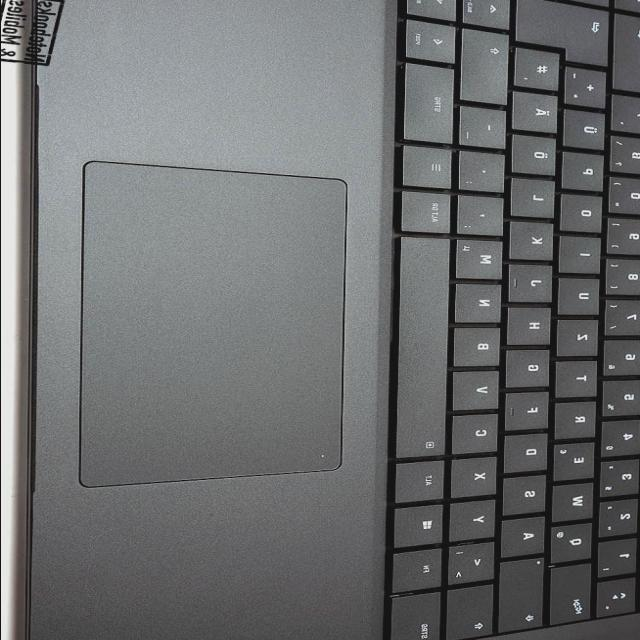0: (610, 177, 640, 218)
1: (599, 540, 640, 580)
2: (599, 500, 640, 540)
3: (601, 461, 640, 501)
4: (603, 421, 640, 459)
5: (603, 381, 640, 420)
6: (604, 341, 640, 379)
7: (605, 301, 640, 339)
8: (607, 260, 640, 299)
9: (608, 219, 640, 258)
a: (502, 519, 549, 561)
accent: (613, 96, 640, 137)
ae: (514, 93, 563, 136)
alt-left: (397, 462, 450, 506)
altgr-right: (401, 193, 455, 237)
b: (454, 328, 506, 370)
c: (453, 415, 502, 458)
caret: (598, 580, 640, 621)
comma: (459, 197, 509, 240)
d: (505, 435, 552, 476)
del: (615, 15, 640, 98)
e: (555, 445, 600, 485)
enter: (516, 0, 614, 69)
f: (506, 394, 554, 434)
g: (507, 351, 554, 392)
h: (508, 309, 556, 349)
hash: (516, 49, 565, 94)
i: (561, 237, 606, 277)
j: (509, 266, 558, 306)
k: (511, 222, 559, 264)
keyboard: (377, 0, 640, 640)
l: (512, 180, 560, 221)
less: (449, 544, 500, 588)
m: (457, 241, 508, 283)
minus: (460, 107, 511, 152)
n: (456, 284, 506, 326)
o: (561, 196, 607, 236)
oe: (513, 136, 560, 178)
p: (563, 153, 609, 194)
plus: (567, 69, 612, 112)
point: (461, 152, 510, 196)
q: (552, 525, 597, 567)
r: (556, 402, 601, 442)
s: (503, 477, 550, 519)
shift-left: (447, 587, 498, 640)
shift-lock: (500, 560, 548, 636)
shift-right: (462, 30, 514, 109)
space: (396, 237, 452, 463)
ss: (612, 138, 640, 178)
strg-left: (390, 594, 446, 640)
strg-right: (403, 64, 458, 147)
t: (557, 363, 602, 401)
tab: (551, 566, 597, 628)
u: (559, 279, 604, 318)
ue: (564, 111, 610, 153)
v: (453, 372, 504, 414)
w: (553, 485, 599, 525)
x: (452, 458, 501, 501)
y: (450, 502, 500, 545)
z: (558, 320, 603, 360)
